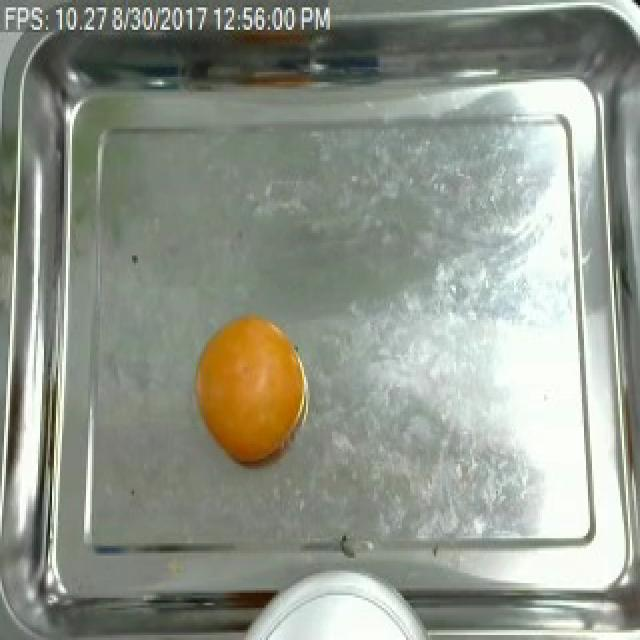Fruit: (192, 308, 312, 462)
